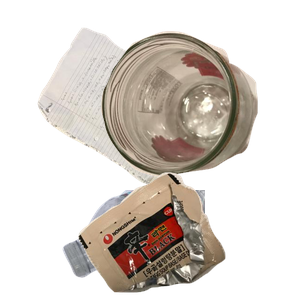glass: (98, 29, 300, 198)
paper: (35, 25, 232, 204)
plastic: (60, 190, 300, 280)
trash: (76, 170, 300, 300)
